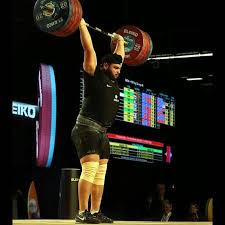Indian_Male: (104, 49, 123, 79)
